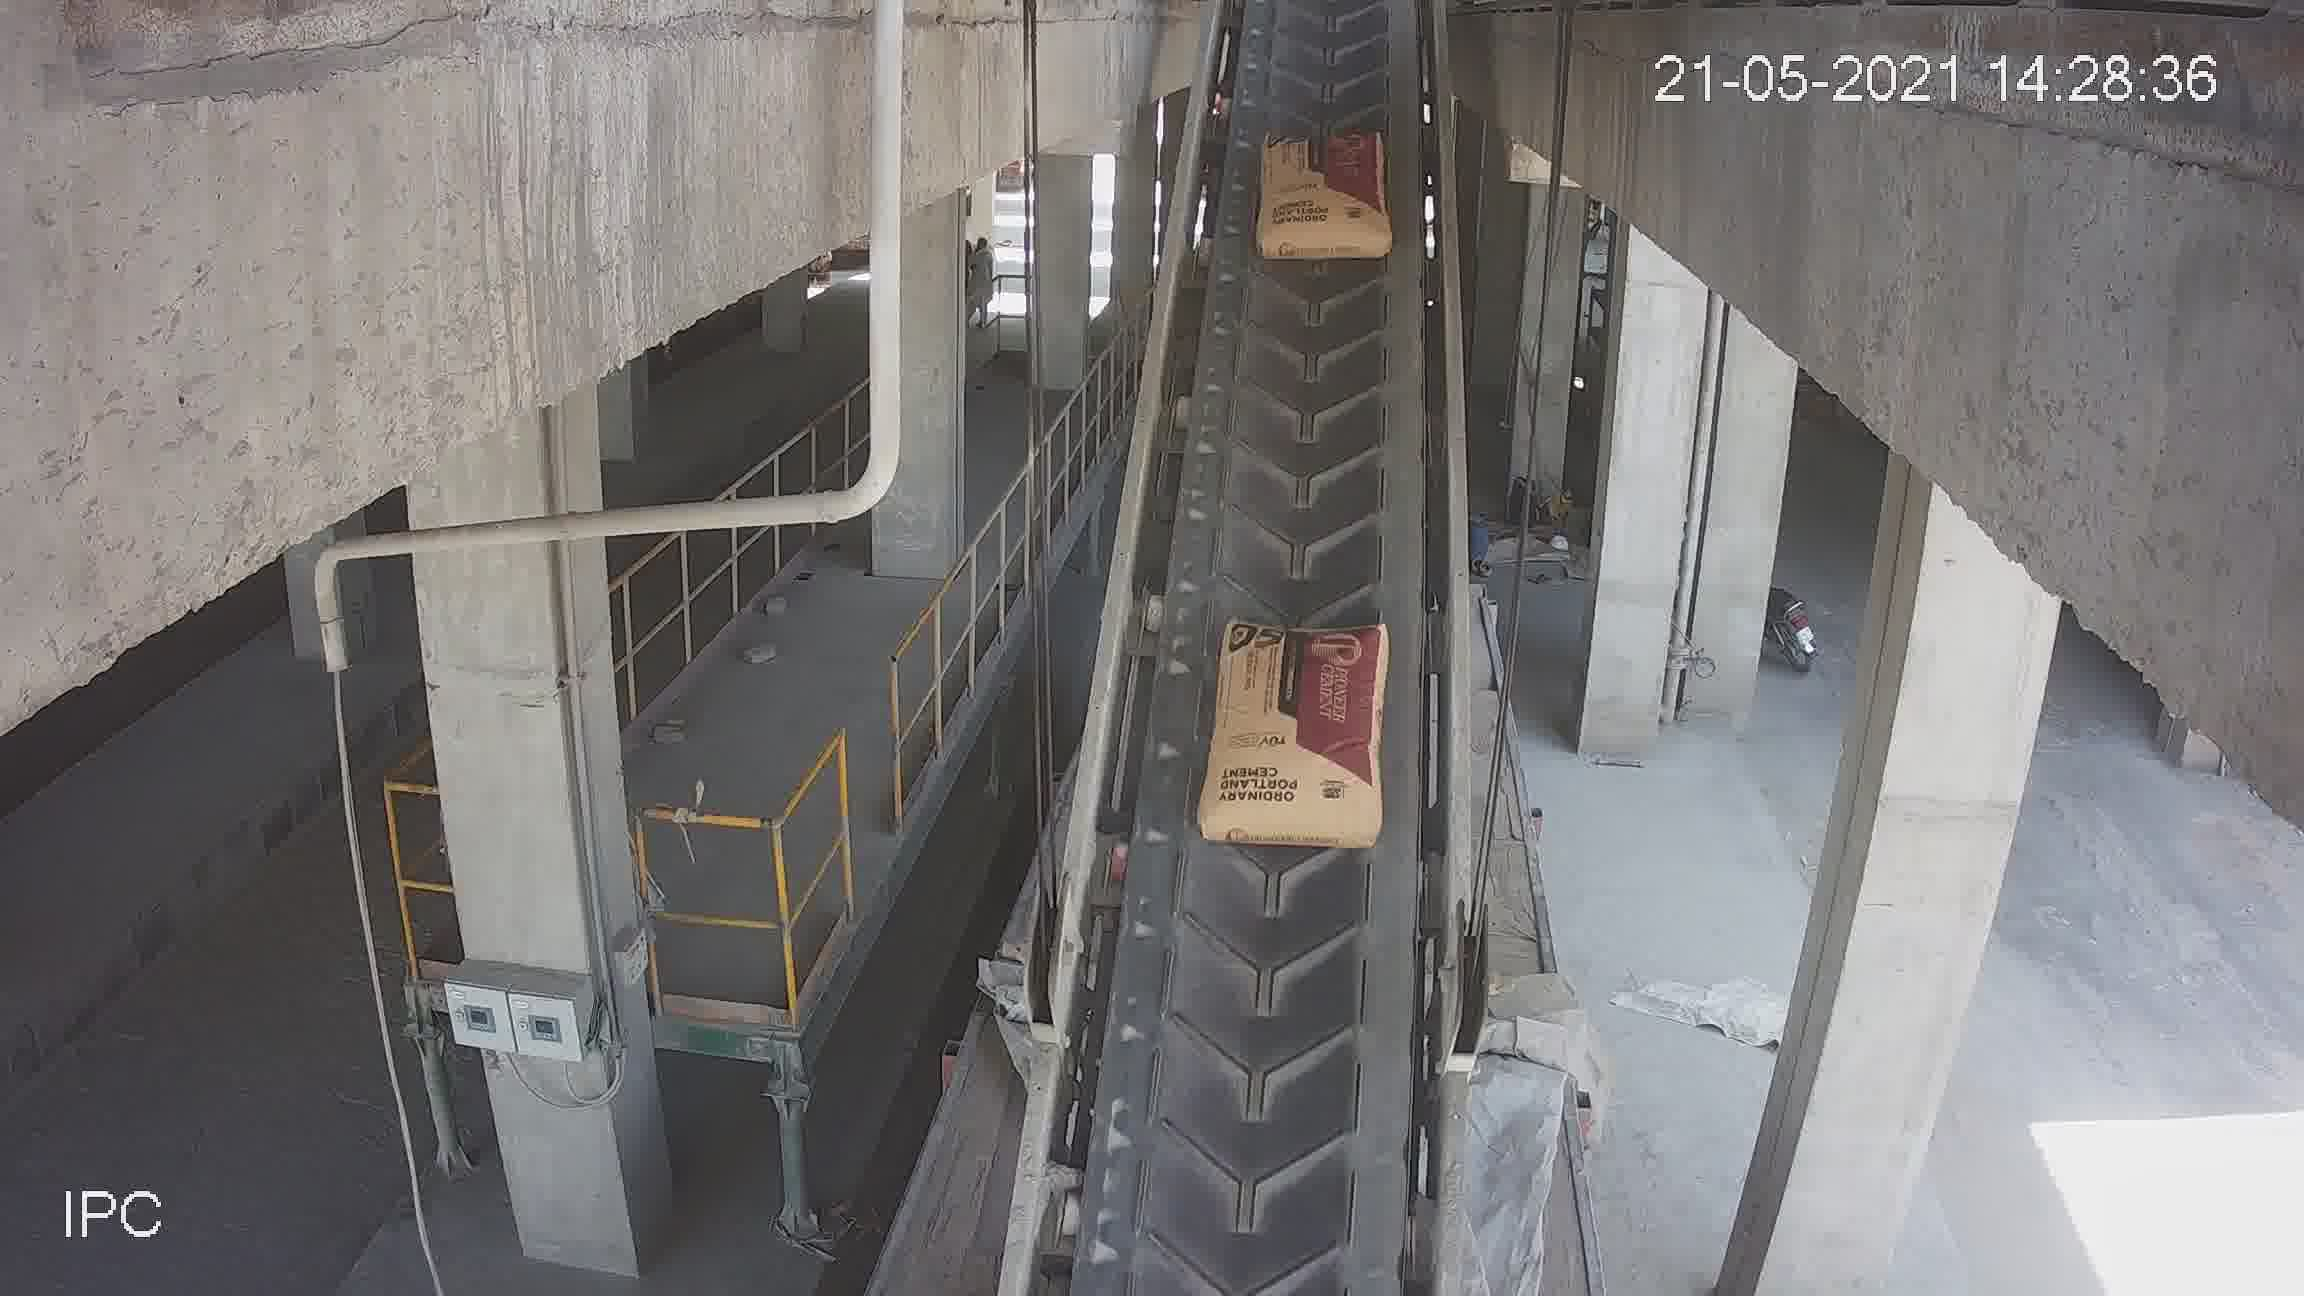bag: (1215, 630, 1386, 842), (1252, 131, 1388, 256)
belt: (1055, 27, 1472, 1256)
